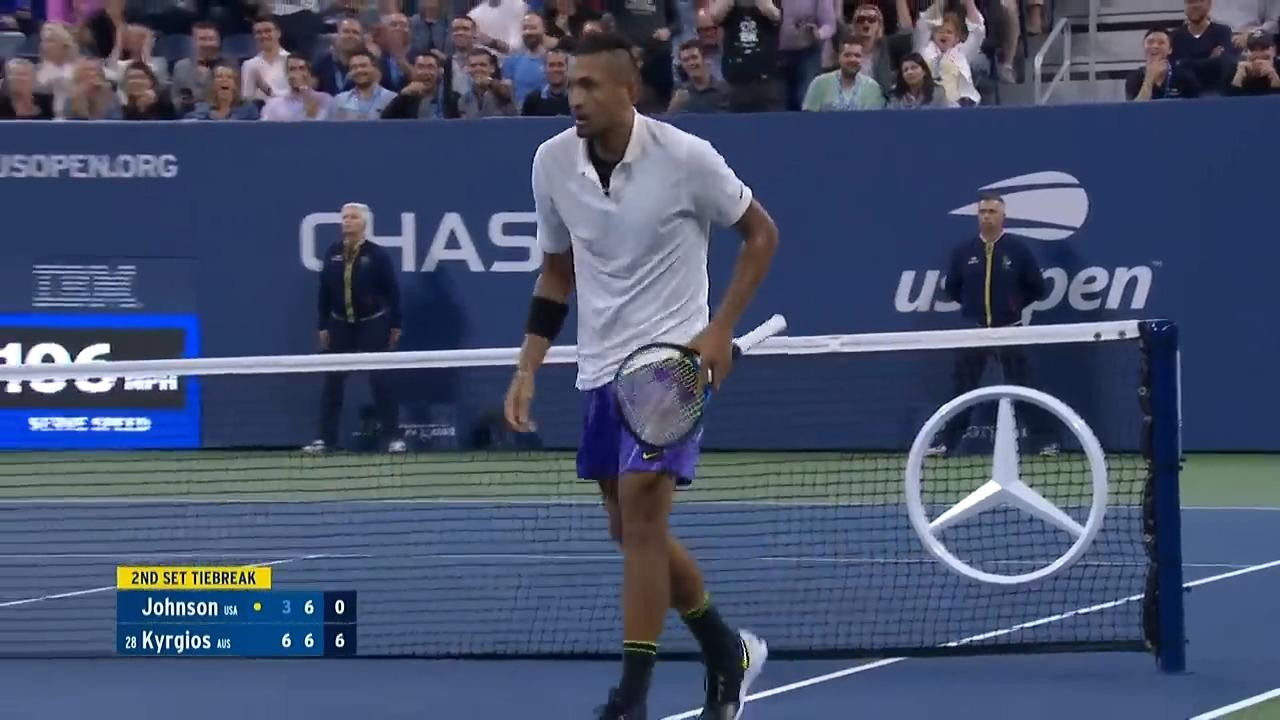tennis racket: (613, 342, 712, 448), (733, 315, 788, 358)
